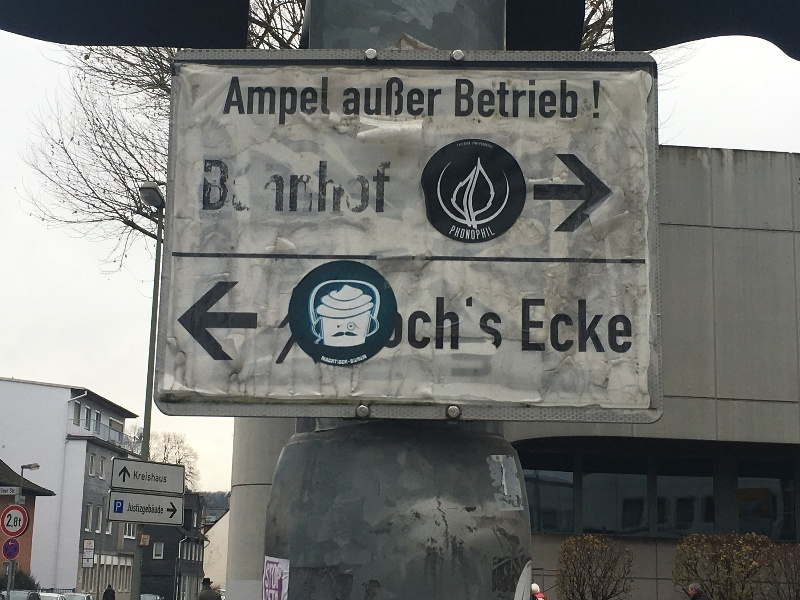text: (401, 295, 416, 349), (417, 295, 432, 349), (433, 295, 448, 349), (209, 159, 224, 213), (225, 159, 240, 213), (241, 159, 256, 213), (257, 159, 272, 213), (273, 159, 288, 213), (289, 159, 304, 213), (305, 159, 320, 213), (321, 159, 336, 213), (337, 159, 352, 213), (353, 159, 368, 213), (369, 159, 384, 213), (481, 296, 496, 349), (529, 299, 544, 352), (545, 299, 560, 352), (561, 299, 576, 352), (577, 299, 592, 352), (593, 299, 608, 352), (609, 299, 624, 352), (466, 296, 480, 349), (241, 76, 256, 125), (257, 76, 272, 125), (273, 76, 288, 125), (289, 76, 304, 125), (305, 76, 320, 125), (353, 77, 368, 117), (369, 77, 384, 117), (385, 77, 400, 117), (401, 77, 416, 117), (417, 77, 432, 117), (465, 79, 480, 119), (481, 79, 496, 119), (497, 79, 512, 119), (513, 79, 528, 119), (529, 79, 544, 119), (545, 79, 560, 119), (561, 79, 576, 119), (593, 80, 608, 118), (449, 295, 459, 349), (321, 76, 330, 125), (433, 77, 442, 117), (233, 76, 240, 125), (344, 77, 352, 117), (456, 79, 464, 119), (497, 296, 503, 349), (522, 299, 528, 352), (625, 299, 631, 352), (395, 295, 400, 349), (385, 159, 390, 213), (273, 563, 282, 590), (465, 225, 480, 240), (481, 225, 496, 240), (145, 471, 160, 484), (129, 503, 144, 516), (145, 503, 160, 516), (453, 225, 464, 240), (205, 159, 208, 213), (337, 355, 352, 365), (353, 355, 368, 365), (322, 355, 336, 365), (267, 563, 272, 590), (116, 501, 128, 512), (134, 471, 144, 484), (8, 514, 16, 527), (1, 488, 16, 494), (161, 471, 167, 484), (266, 589, 272, 600), (273, 589, 279, 600), (17, 514, 22, 527), (577, 79, 578, 119), (161, 503, 164, 516), (86, 545, 96, 548), (84, 563, 96, 565), (497, 225, 498, 240), (369, 355, 370, 365)
